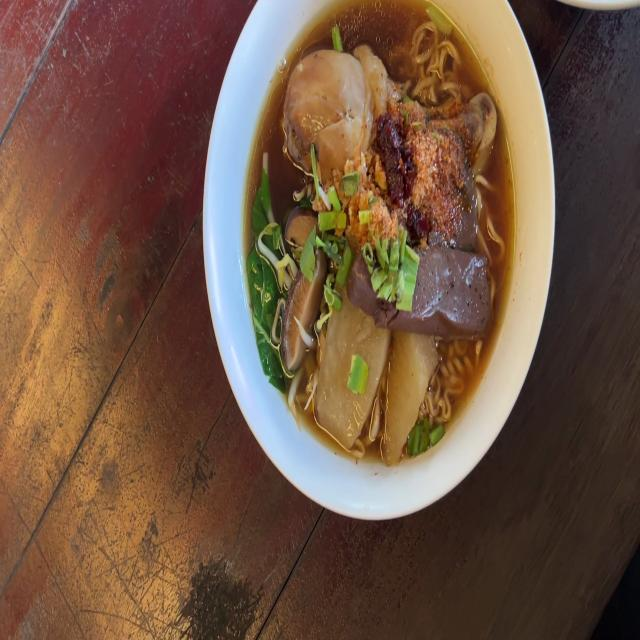boiled_chicken_blood_jelly: (415, 250, 488, 334), (457, 174, 479, 250), (353, 255, 377, 310)
chicken_drumstick: (285, 42, 503, 178)
daikon_radish: (318, 325, 433, 451)
noodle: (262, 3, 512, 429)
